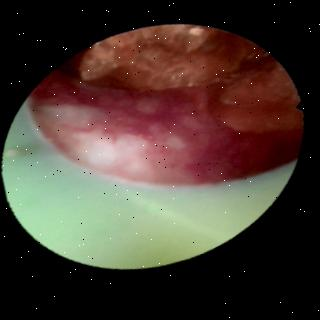stone: (76, 30, 299, 146)
tissue: (34, 68, 296, 188)
